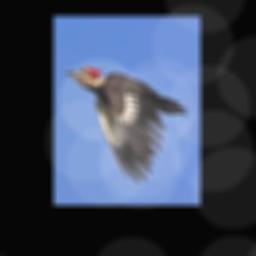Woodpecker: (65, 66, 187, 183)
